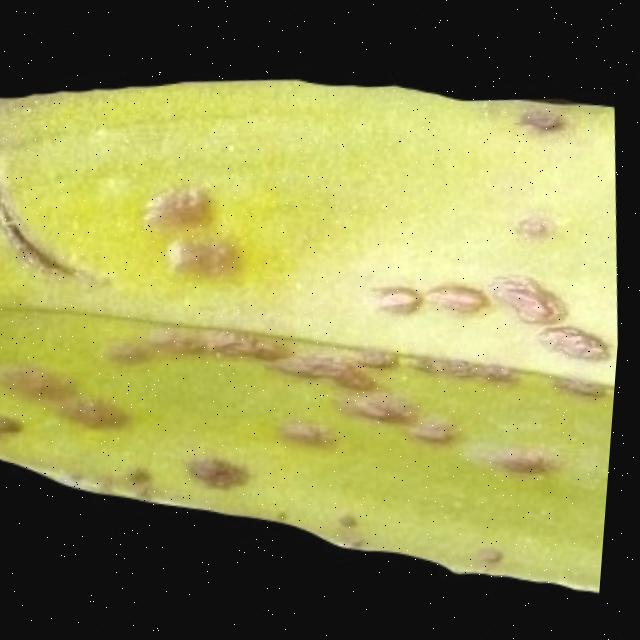mite: (0, 165, 267, 503), (144, 175, 263, 496), (169, 234, 245, 279), (542, 315, 617, 358), (74, 394, 138, 433), (431, 275, 495, 311), (378, 277, 428, 313), (133, 464, 166, 502), (0, 412, 33, 441)
spots: (0, 60, 622, 629)
